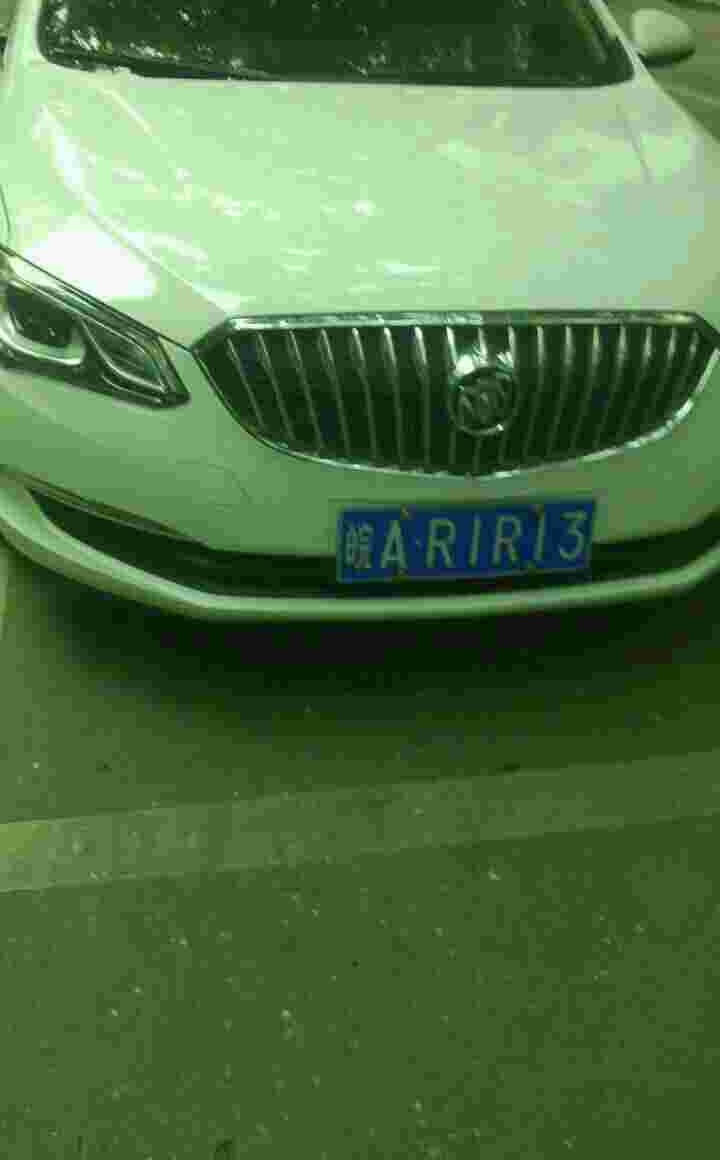plate: (338, 495, 604, 584)
